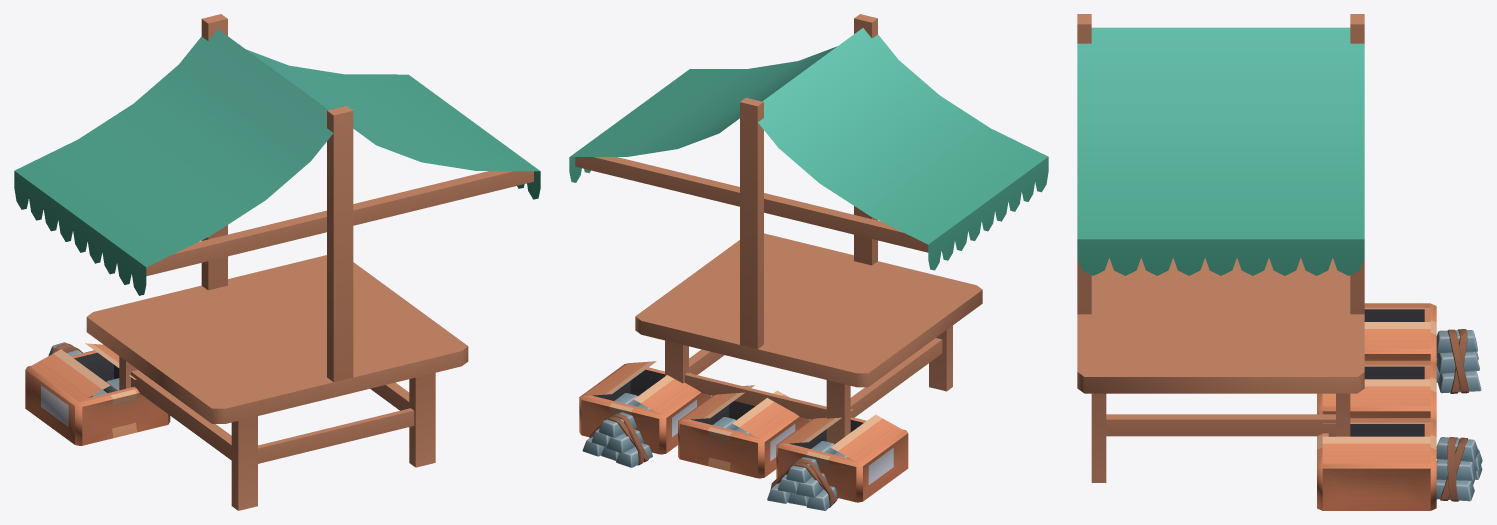
The model's file is london_stall_tin.glb.
3 renders of one model, left to right at view 1: azimuth 30°, elevation 25°; view 2: azimuth 150°, elevation 25°; view 3: azimuth 270°, elevation 25°, orthographic. The views are drawn at different scales.
Visible parts, largest first — view 1: Tin stall timber frame green canopy, Open tin crate 0; view 2: Tin stall timber frame green canopy, Open tin crate 1, Open tin crate 0, Open tin crate 2, Stacked tin display left, Stacked tin display right; view 3: Tin stall timber frame green canopy, Open tin crate 2, Open tin crate 1, Open tin crate 0, Stacked tin display left, Stacked tin display right.
Boxes of the visible parts, bbox=[...] form: Tin stall timber frame green canopy: bbox=[14, 14, 540, 510]; Open tin crate 0: bbox=[25, 343, 170, 445]; Tin stall timber frame green canopy: bbox=[569, 14, 1048, 444]; Open tin crate 1: bbox=[678, 385, 809, 478]; Open tin crate 0: bbox=[776, 409, 908, 502]; Open tin crate 2: bbox=[579, 361, 711, 454]; Stacked tin display left: bbox=[767, 457, 838, 510]; Stacked tin display right: bbox=[582, 412, 652, 467]; Tin stall timber frame green canopy: bbox=[1077, 14, 1364, 482]; Open tin crate 2: bbox=[1317, 418, 1436, 510]; Open tin crate 1: bbox=[1317, 360, 1436, 420]; Open tin crate 0: bbox=[1364, 303, 1436, 362]; Stacked tin display left: bbox=[1436, 329, 1481, 393]; Stacked tin display right: bbox=[1436, 437, 1482, 501].
Bounding box in the file's own units: 6.2 × 5.7 × 5.08.
Materials: 4 (4 with a texture image).
